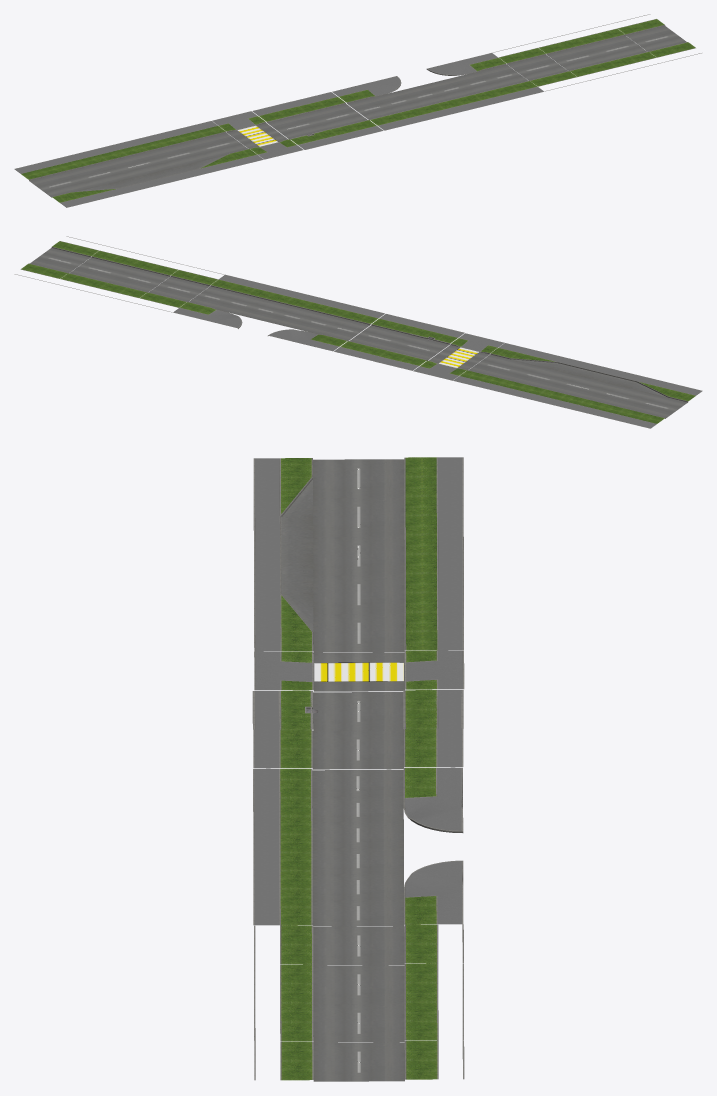
File: street.obj
3 views of the same model, one above another, from view 1: azimuth 30°, elevation 25°; view 2: azimuth 150°, elevation 25°; view 3: azimuth 270°, elevation 25° (orthographic). The views are drawn at different scales.
Visible parts, largest first — view 1: Plane.014_Road_0, Plane.019_Road_0, object 29, object 25, Plane.014_grass_0, Plane.019_grass_0, Plane.014_bord_0, Plane.019_bord_0, Plane_Road_0.001, Plane_Road_0.006, Plane_Road_0.004, Plane_Road_0.003 (+14 smaller); view 2: Plane.014_Road_0, Plane.019_Road_0, object 29, object 25, Plane.014_grass_0, Plane.019_grass_0, Plane.014_bord_0, Plane.019_bord_0, Plane_Road_0, Plane_Road_0.001, Plane_Road_0.006, Plane_Road_0.004 (+14 smaller); view 3: Plane.014_Road_0, Plane.019_Road_0, object 29, object 25, Plane.014_grass_0, Plane.019_grass_0, Plane_Road_0.001, Plane_Road_0, Plane_Road_0.006, Plane_Road_0.003, Plane_Road_0.004, Plane.002_Road_0.001 (+14 smaller).
Part boxes in pixels (left/top/right/bottom): Plane.014_Road_0: left=29, top=132, right=247, bottom=197; Plane.019_Road_0: left=347, top=64, right=528, bottom=119; object 29: left=14, top=121, right=263, bottom=207; object 25: left=332, top=53, right=543, bottom=130; Plane.014_grass_0: left=21, top=126, right=256, bottom=202; Plane.019_grass_0: left=339, top=58, right=536, bottom=125; Plane.014_bord_0: left=15, top=121, right=263, bottom=207; Plane.019_bord_0: left=332, top=53, right=543, bottom=130; Plane_Road_0.001: left=507, top=55, right=567, bottom=80; Plane_Road_0.006: left=626, top=26, right=686, bottom=51; Plane_Road_0.004: left=586, top=35, right=647, bottom=61; Plane_Road_0.003: left=547, top=45, right=607, bottom=70; Plane.014_Road_0: left=469, top=354, right=687, bottom=418; Plane.019_Road_0: left=189, top=286, right=369, bottom=340; object 29: left=453, top=343, right=702, bottom=428; object 25: left=173, top=275, right=384, bottom=350; Plane.014_grass_0: left=460, top=348, right=695, bottom=423; Plane.019_grass_0: left=180, top=279, right=378, bottom=346; Plane.014_bord_0: left=453, top=343, right=702, bottom=428; Plane.019_bord_0: left=173, top=274, right=384, bottom=351; Plane_Road_0: left=349, top=325, right=410, bottom=350; Plane_Road_0.001: left=149, top=276, right=209, bottom=301; Plane_Road_0.006: left=30, top=247, right=90, bottom=272; Plane_Road_0.004: left=70, top=257, right=130, bottom=282; Plane.014_Road_0: left=281, top=459, right=404, bottom=652; Plane.019_Road_0: left=312, top=769, right=403, bottom=926; object 29: left=255, top=457, right=462, bottom=651; object 25: left=254, top=767, right=461, bottom=925; Plane.014_grass_0: left=281, top=457, right=437, bottom=651; Plane.019_grass_0: left=280, top=768, right=436, bottom=925; Plane_Road_0.001: left=313, top=926, right=404, bottom=965; Plane_Road_0: left=312, top=730, right=403, bottom=769; Plane_Road_0.006: left=313, top=1042, right=404, bottom=1081; Plane_Road_0.003: left=313, top=965, right=404, bottom=1004; Plane_Road_0.004: left=313, top=1003, right=404, bottom=1042; Plane.002_Road_0.001: left=306, top=692, right=403, bottom=730.
Bounding box in the file's own units: 284 × 0.7127 × 40.8.
